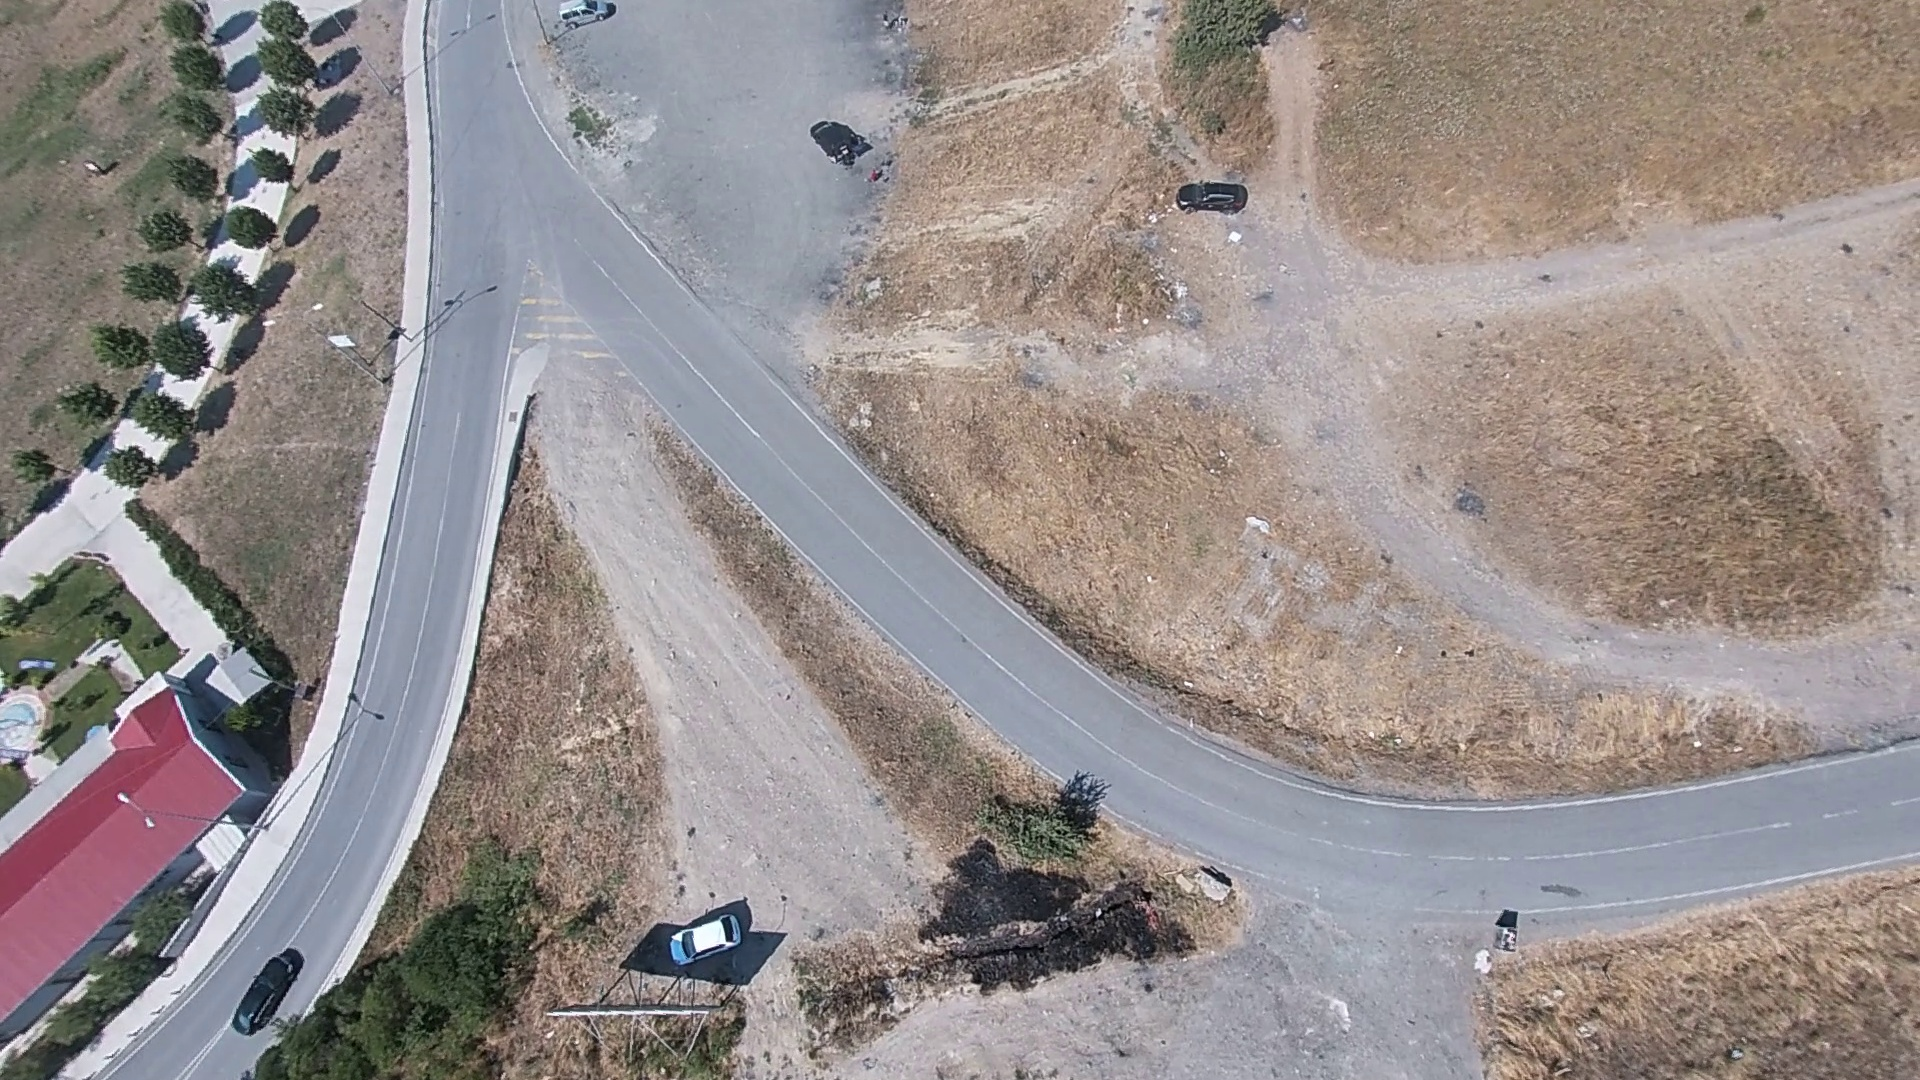araba: (232, 944, 305, 1035), (666, 902, 749, 965), (1179, 179, 1244, 210), (554, 3, 611, 26)
